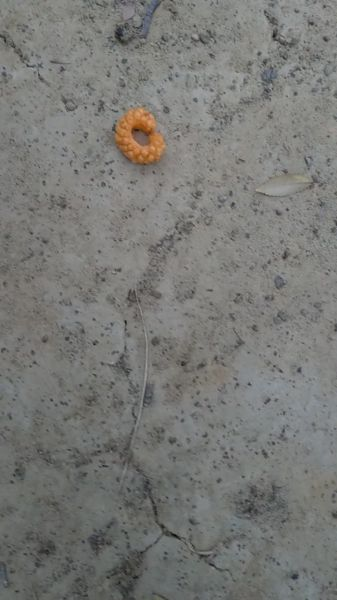eggs: (110, 97, 172, 166)
